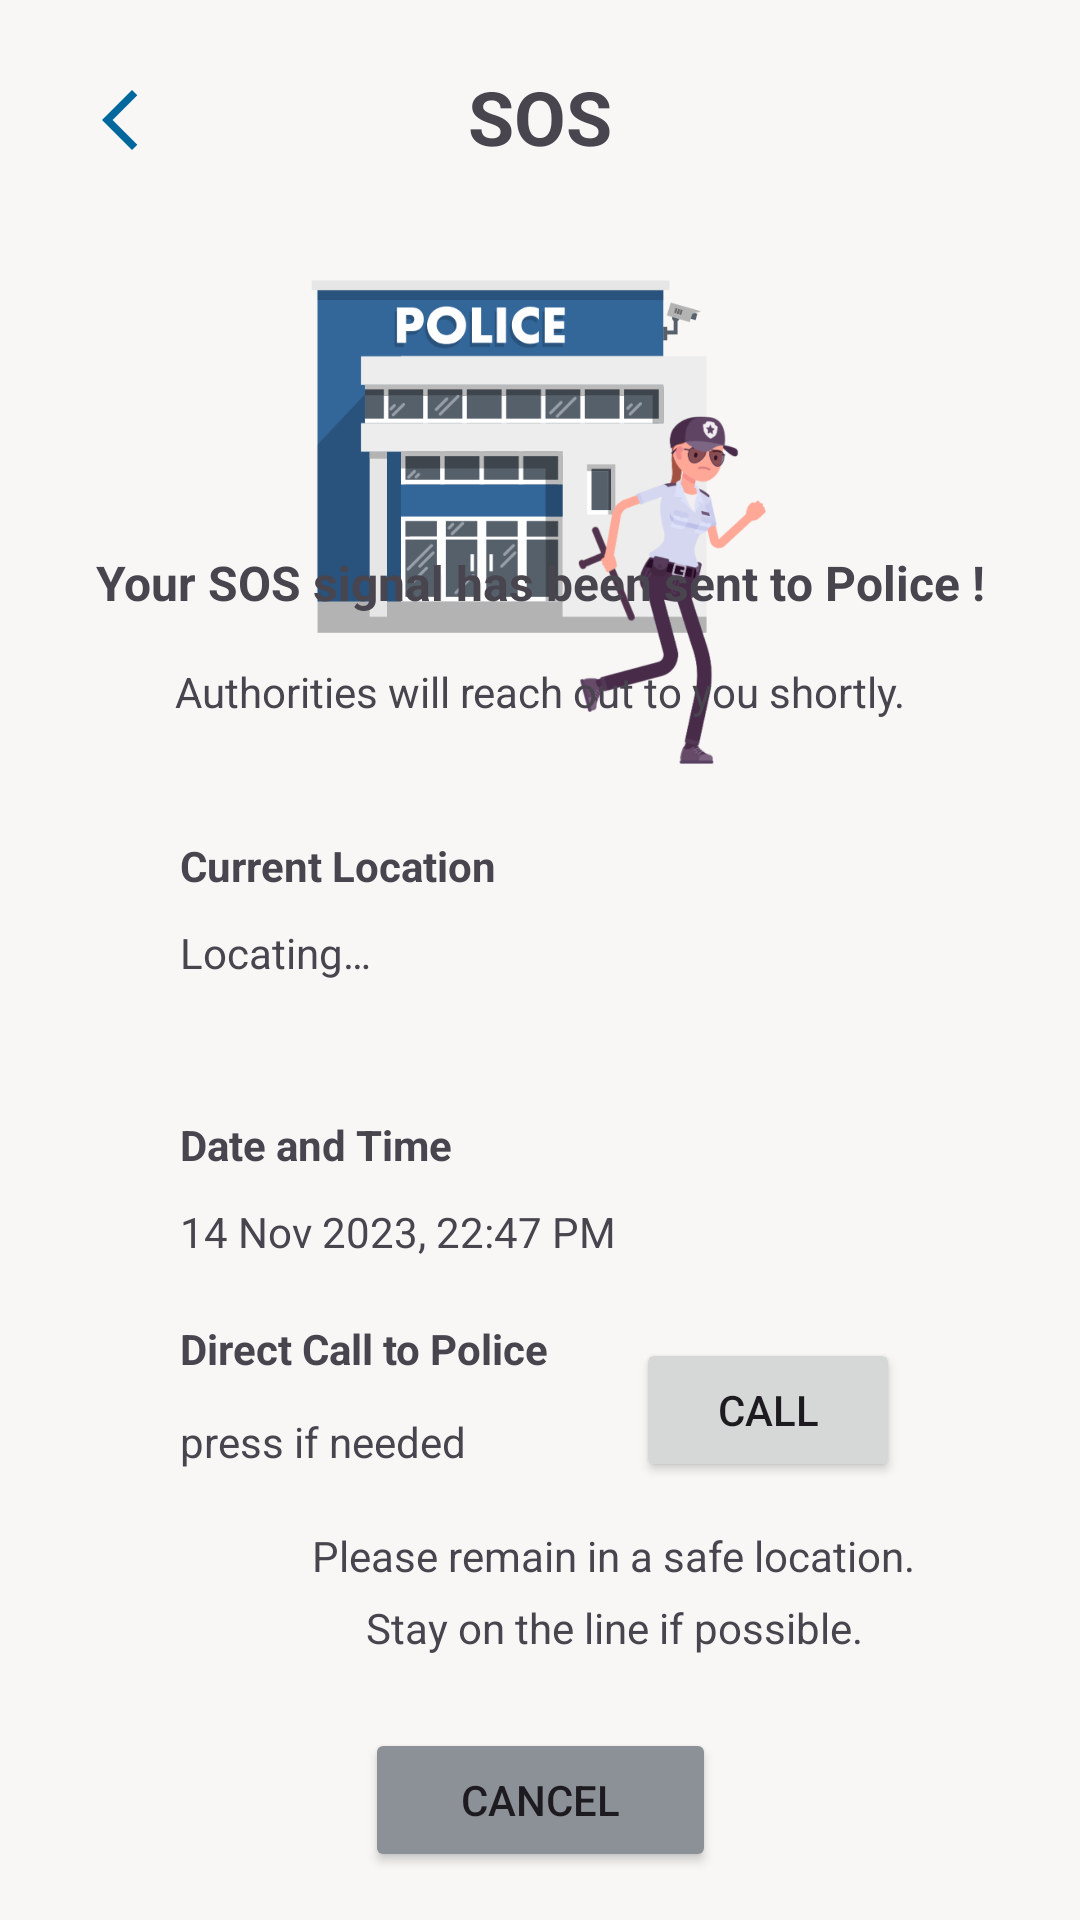

Icons on this 1080×1920 Android screen, each with the point to tap as point (x, y):
back: point (119, 120)
